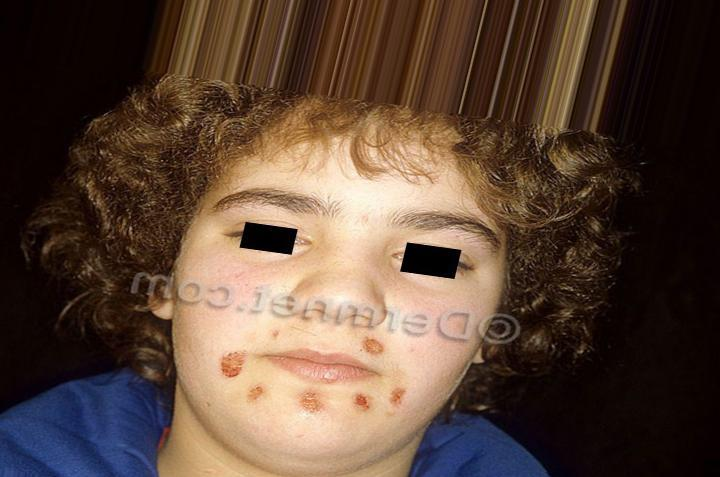Acne: (240, 382, 296, 426), (333, 373, 376, 420), (360, 320, 404, 362), (392, 379, 430, 425), (286, 388, 342, 419), (201, 351, 257, 379)
